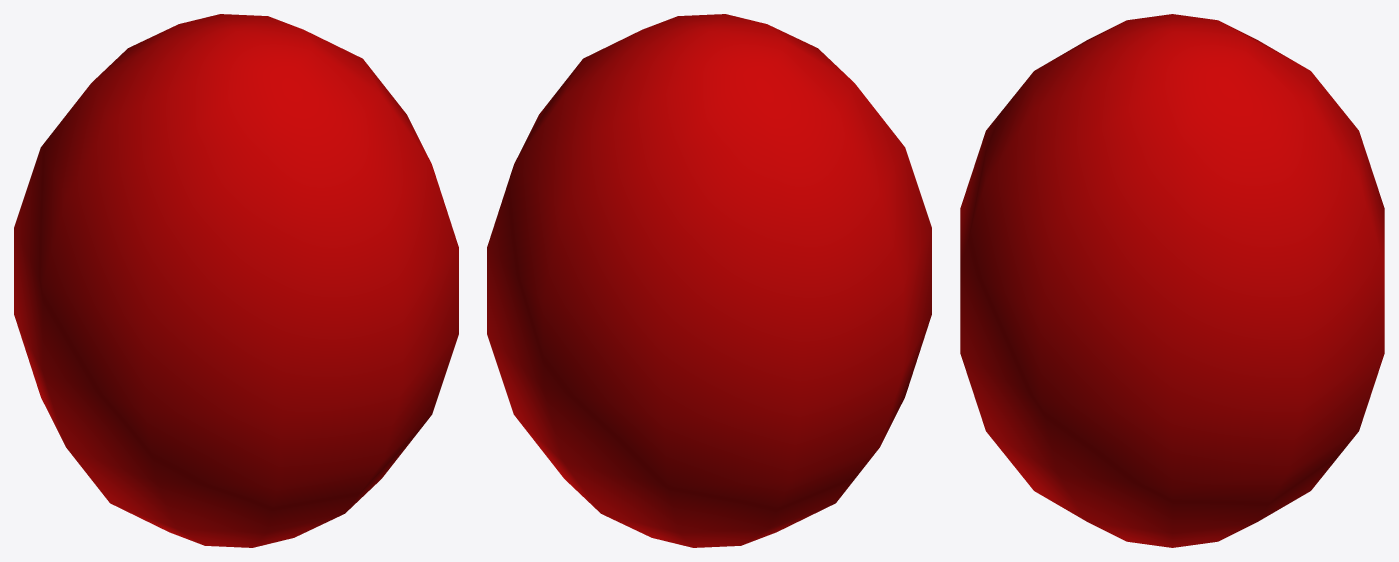
Rendered from cherry_ARgame.fbx.
The picture shows the model from 3 angles, left to right: view 1: azimuth 30°, elevation 25°; view 2: azimuth 150°, elevation 25°; view 3: azimuth 270°, elevation 25°; orthographic projection.
Parts seen in each view (by area): view 1: cherry; view 2: cherry; view 3: cherry.
Part boxes in pixels (bbox=[...]): cherry: bbox=[14, 14, 458, 547]; cherry: bbox=[487, 14, 931, 547]; cherry: bbox=[960, 14, 1384, 547].
Bounding box in the file's own units: 2.76 × 3.4 × 2.62.
